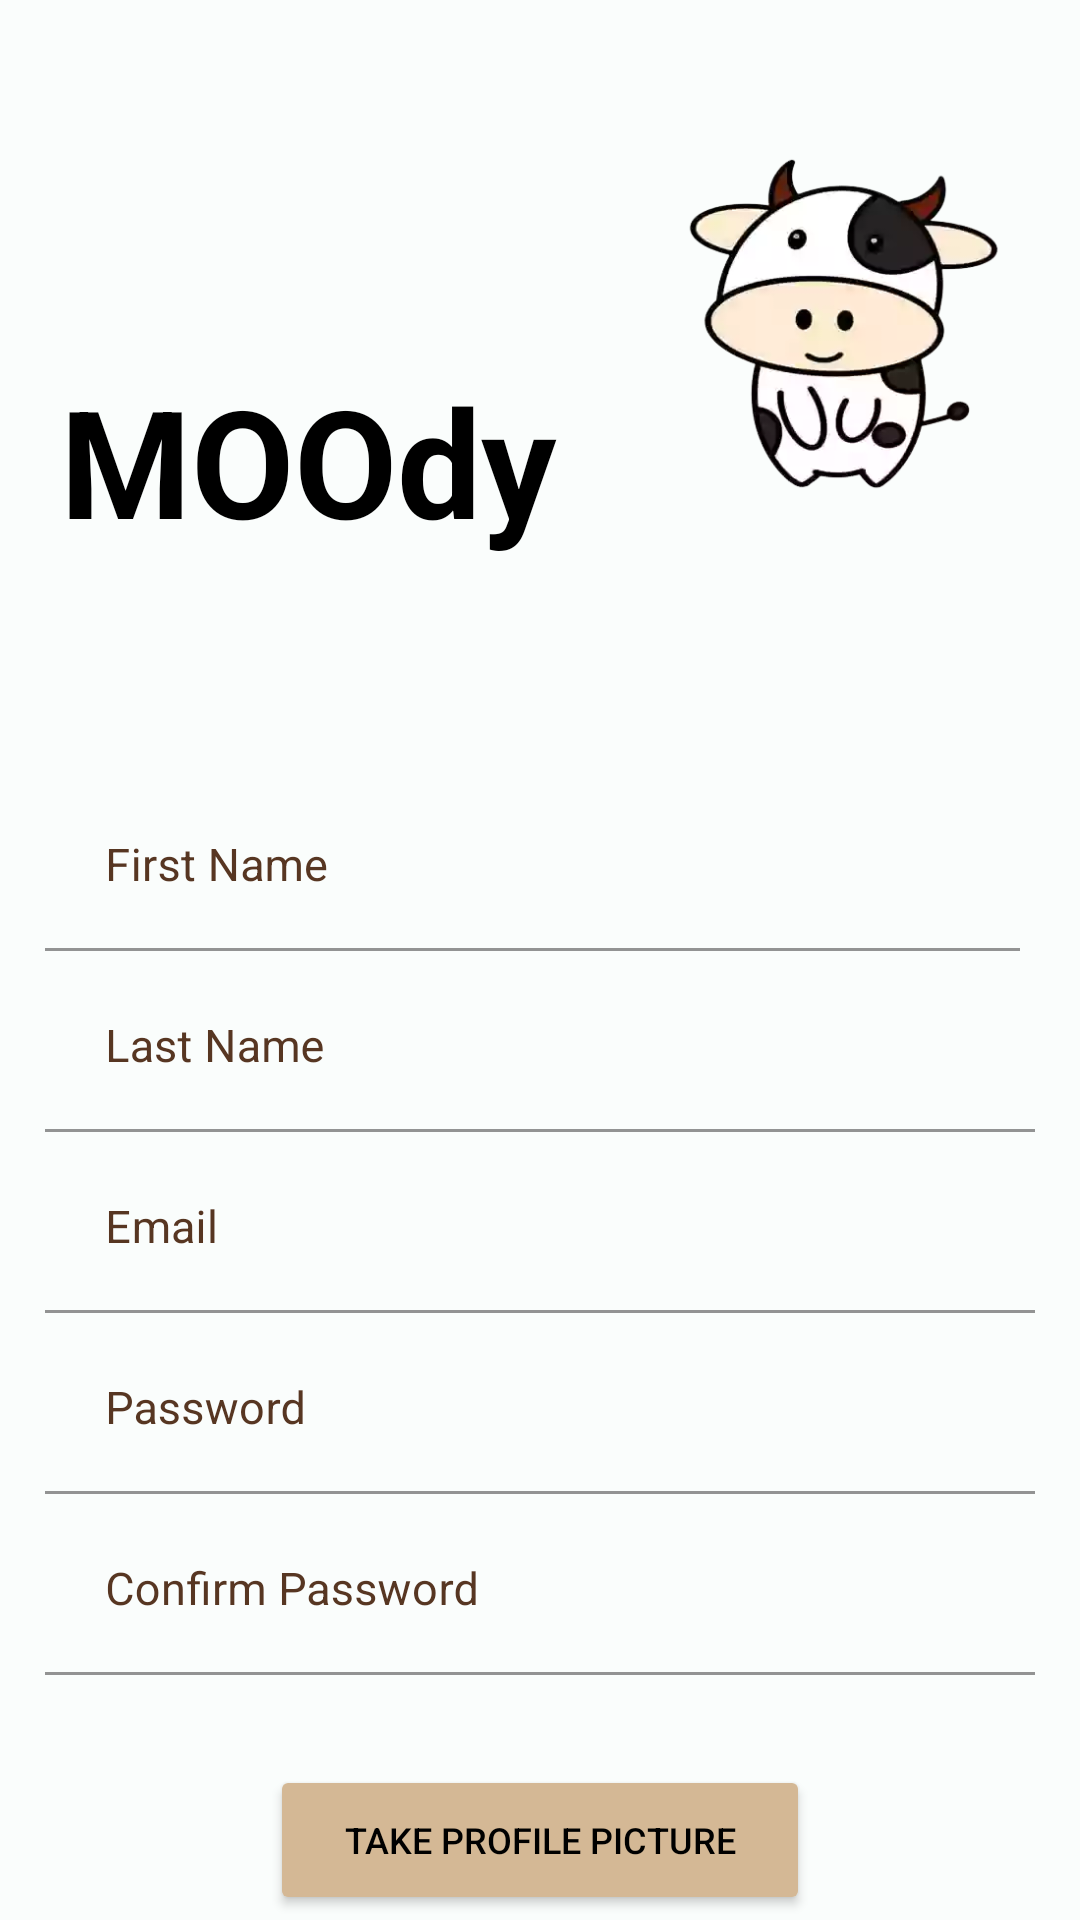

Screen size 1080px×1920px. Icon name, then its box in pixels as (left=x1, top=y1, right=x2, bottom=y2):
signup login cow: (left=689, top=159, right=998, bottom=488)
